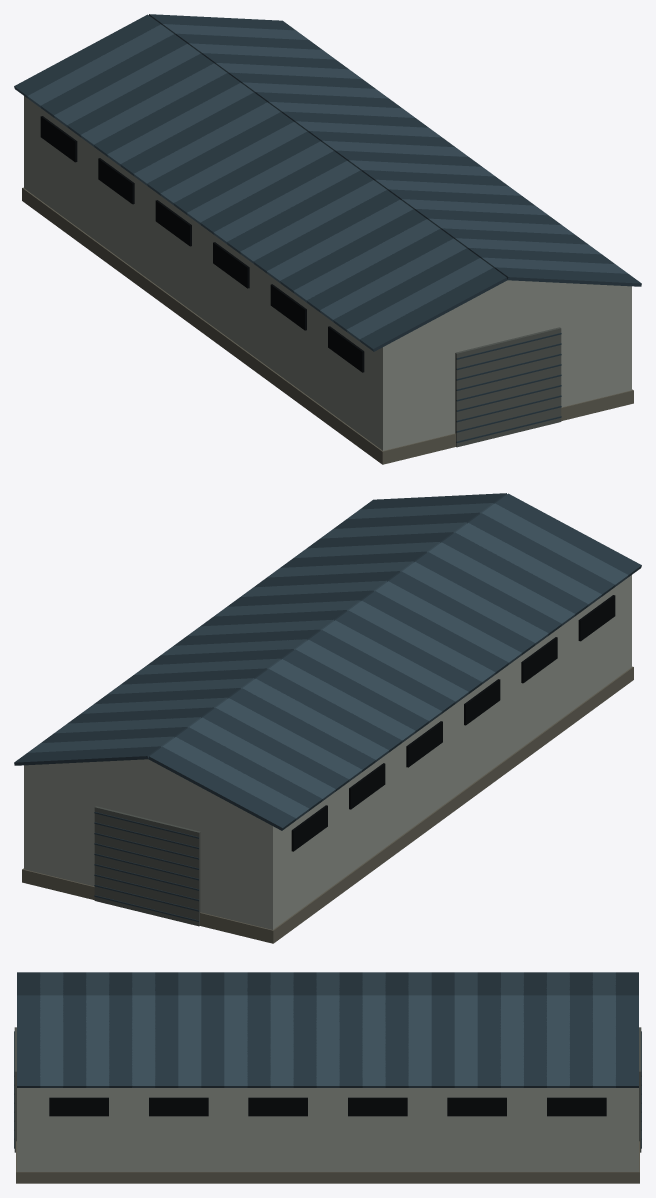
File: shed_long.fbx
3 renders of one model, top to bottom at view 1: azimuth 30°, elevation 25°; view 2: azimuth 150°, elevation 25°; view 3: azimuth 270°, elevation 25°, orthographic. The views are drawn at different scales.
Parts seen in each view (by area): view 1: shed_long; view 2: shed_long; view 3: shed_long.
Part boxes in pixels (left/top/right/bottom): shed_long: left=14, top=14, right=641, bottom=464; shed_long: left=14, top=493, right=641, bottom=943; shed_long: left=14, top=972, right=641, bottom=1183.
Bounding box in the file's own units: 10.8 × 6.01 × 25.25.
